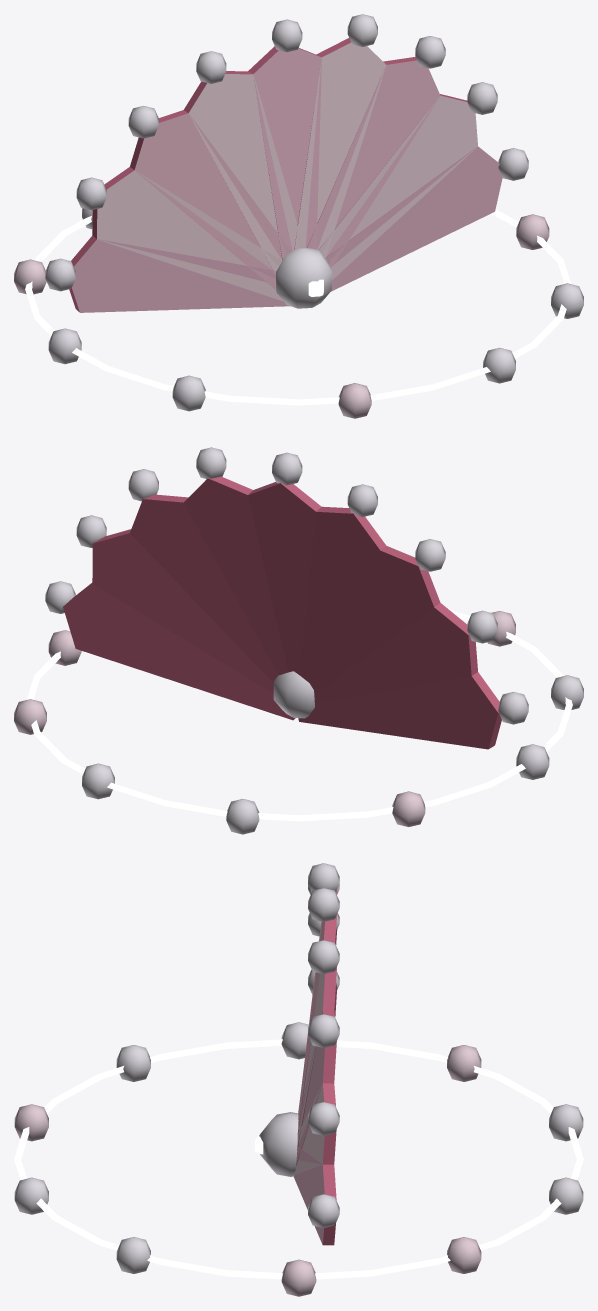
File: umeko_p2.glb
3 views of the same model, one above another, from view 1: azimuth 30°, elevation 25°; view 2: azimuth 150°, elevation 25°; view 3: azimuth 270°, elevation 25° (orthographic). The views are drawn at different scales.
Parts seen in each view (by area): view 1: p2_clam_body, p2_pearls_body, p2_pearls_glow; view 2: p2_clam_body, p2_pearls_body, p2_pearls_glow; view 3: p2_clam_body, p2_pearls_body, p2_pearls_glow.
Part boxes in pixels (x1=…): p2_clam_body: x1=45, y1=14, x2=528, y2=312; p2_pearls_body: x1=14, y1=208, x2=583, y2=418; p2_pearls_glow: x1=25, y1=209, x2=570, y2=405; p2_clam_body: x1=45, y1=447, x2=528, y2=749; p2_pearls_body: x1=14, y1=611, x2=583, y2=834; p2_pearls_glow: x1=26, y1=609, x2=572, y2=821; p2_clam_body: x1=259, y1=863, x2=339, y2=1245; p2_pearls_body: x1=14, y1=1022, x2=583, y2=1296; p2_pearls_glow: x1=14, y1=1039, x2=583, y2=1279.
Bounding box in the file's own units: 0.728 × 0.386 × 0.69.
